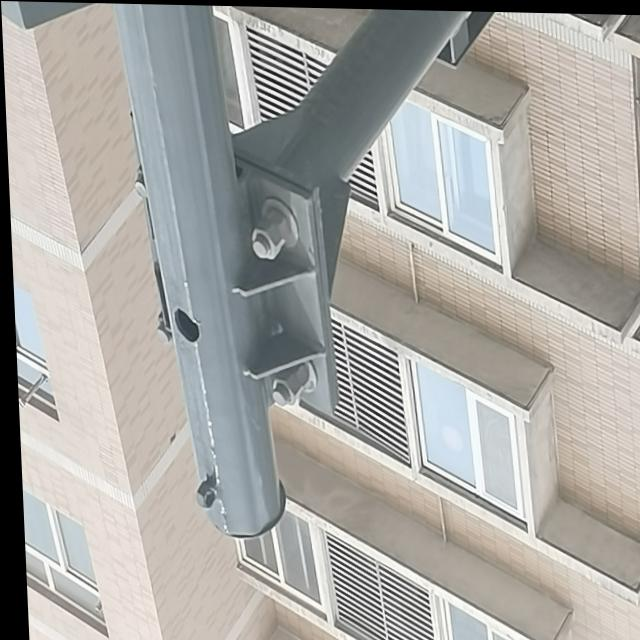Regular bolt: (249, 220, 279, 259), (268, 369, 299, 405), (262, 207, 288, 243), (290, 362, 305, 391)
